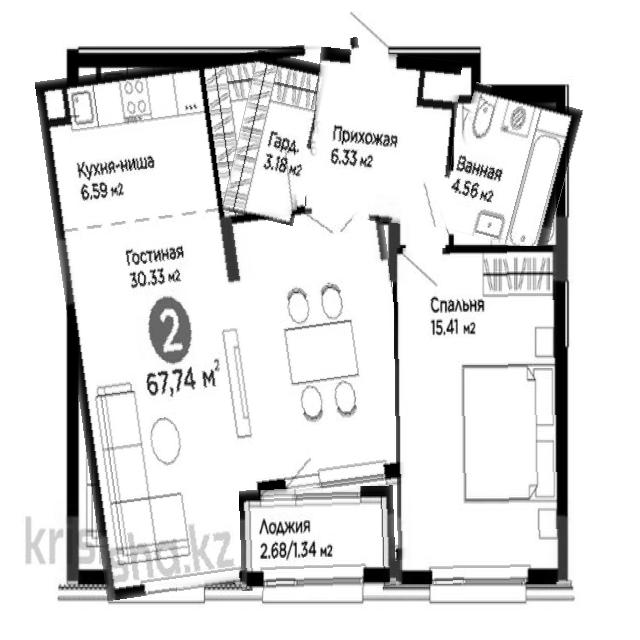balcony: (240, 487, 396, 590)
bathroom: (446, 88, 575, 250)
hallway: (308, 51, 458, 226)
living_room: (395, 246, 565, 584)
other: (230, 53, 321, 223)
studio: (35, 60, 419, 601)
